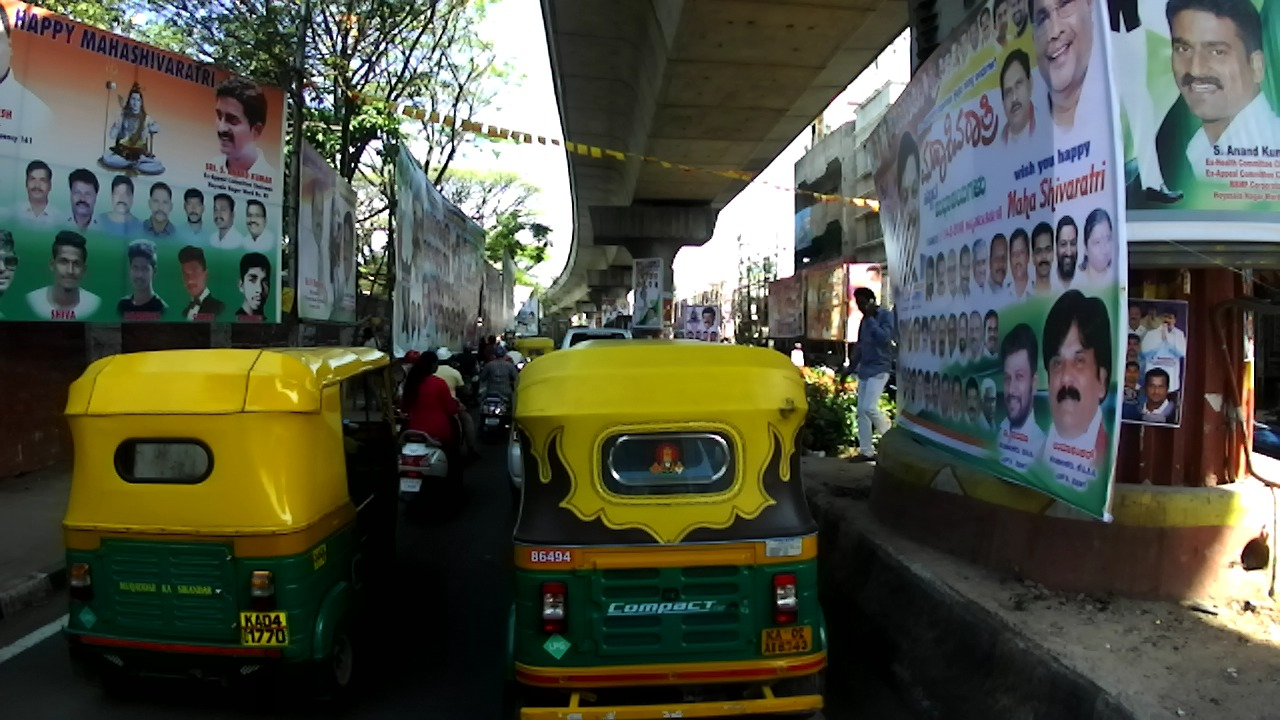autorickshaw: (58, 345, 407, 711), (501, 337, 829, 720), (511, 337, 554, 366)
car: (507, 413, 538, 503), (561, 326, 632, 351)
motorcycle: (391, 396, 469, 518), (477, 363, 526, 445), (1251, 406, 1280, 461), (453, 361, 483, 408), (386, 403, 411, 449), (446, 375, 478, 410), (810, 351, 835, 377), (524, 357, 533, 362)
person: (837, 288, 894, 464), (360, 328, 381, 352), (789, 341, 805, 369), (479, 336, 487, 362), (720, 337, 729, 345)
rider: (402, 351, 466, 502), (431, 347, 482, 459), (480, 344, 518, 408), (391, 349, 429, 412), (456, 342, 481, 404), (503, 342, 525, 368), (485, 334, 499, 361), (494, 341, 503, 356), (499, 337, 506, 349), (504, 345, 510, 352)
vehicle fallback: (539, 318, 572, 349), (603, 314, 633, 330), (886, 368, 899, 402), (505, 331, 515, 344)
